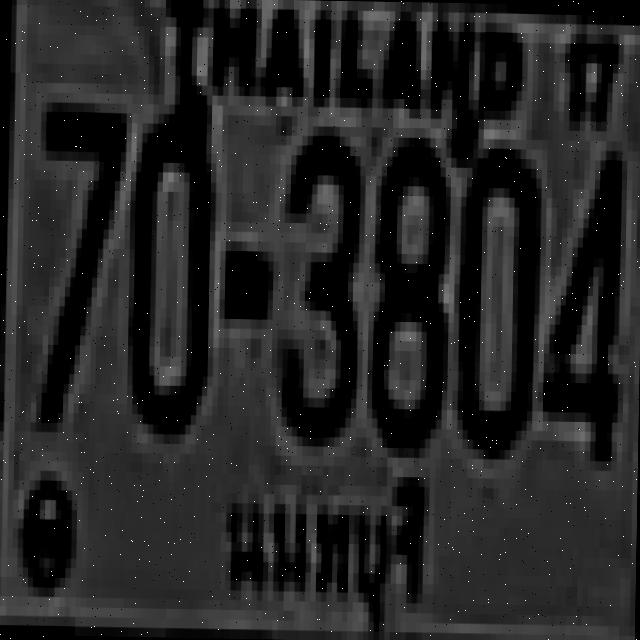0: (121, 94, 212, 425), (452, 138, 536, 450)
3: (276, 125, 360, 437)
4: (539, 140, 619, 452)
7: (36, 92, 121, 424)
8: (366, 132, 446, 444)
Nonthaburi: (217, 465, 431, 640)
